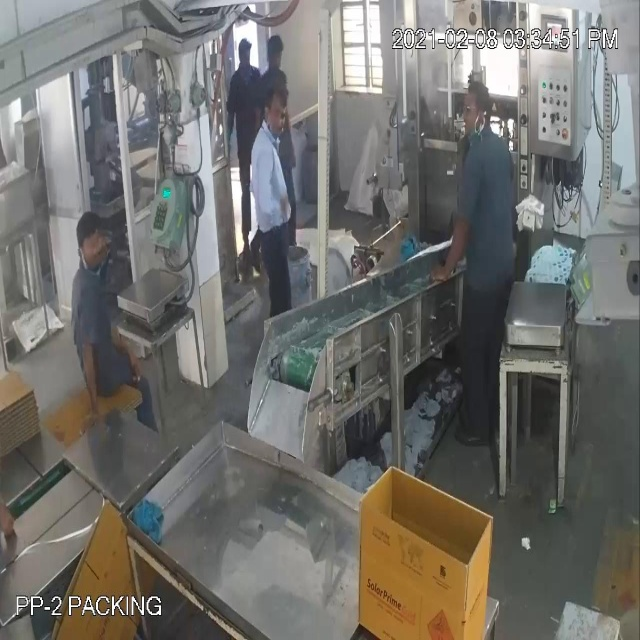Sin_guantes: (430, 182, 489, 320), (72, 304, 106, 446), (107, 300, 147, 399), (250, 149, 288, 237), (0, 500, 32, 548)
